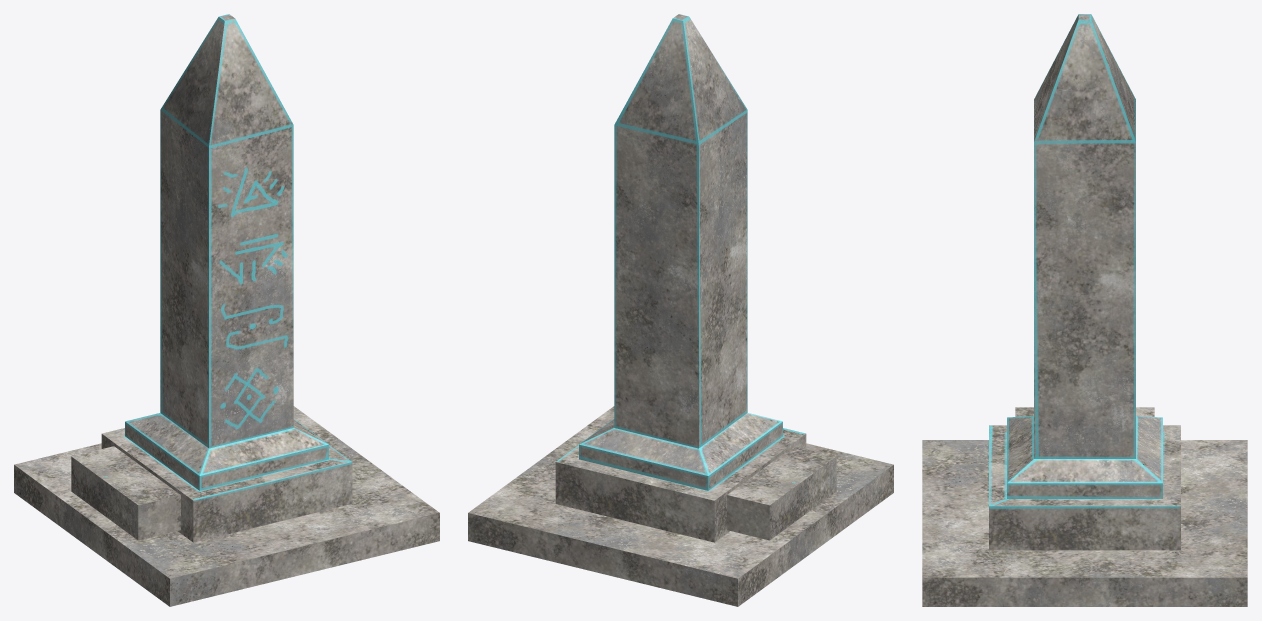
The model's file is ancient_obelisk_final_render.glb.
The picture shows the model from 3 angles, left to right: view 1: azimuth 30°, elevation 25°; view 2: azimuth 150°, elevation 25°; view 3: azimuth 270°, elevation 25°; orthographic projection. The views are drawn at different scales.
Parts seen in each view (by area): view 1: pCube1; view 2: pCube1; view 3: pCube1.
Boxes of the visible parts, x1,y1,x2,y2 form: pCube1: [14, 14, 439, 606]; pCube1: [468, 14, 893, 606]; pCube1: [922, 14, 1247, 606].
Size of the model in its own units: 1.13 by 2 by 1.13.
1 material, 1 textured.
